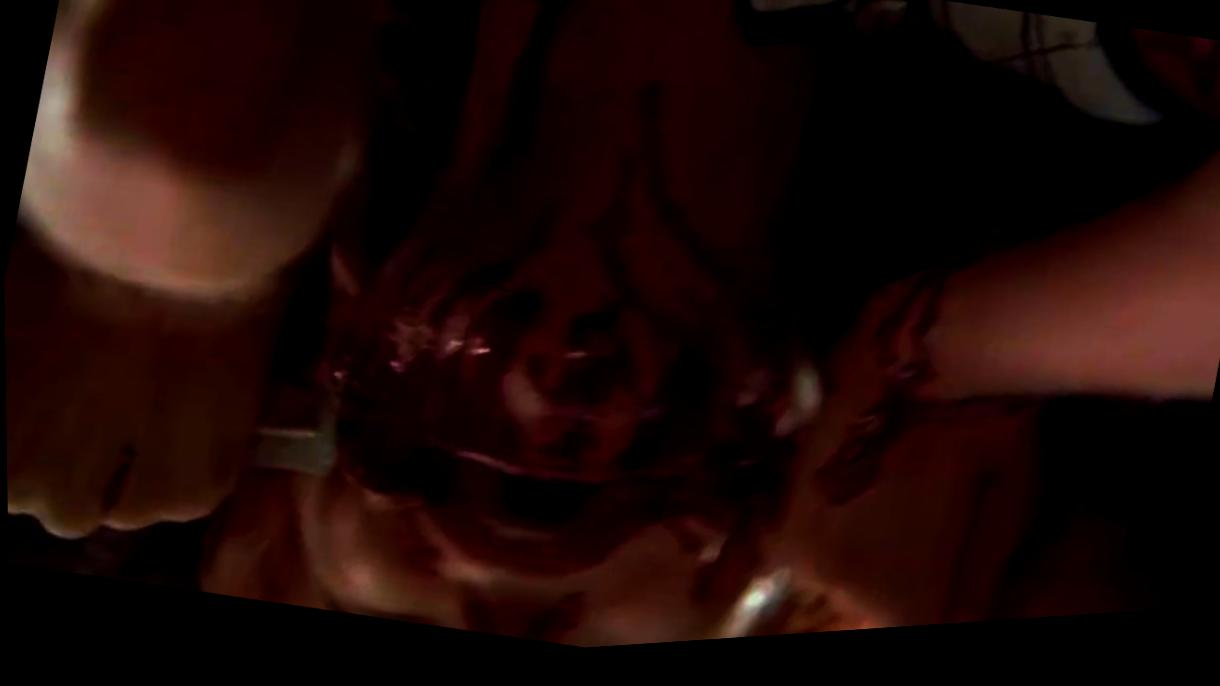Fire: (339, 87, 820, 537), (817, 274, 1037, 640)
